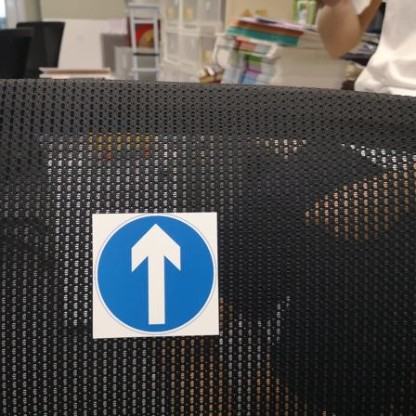forward: (94, 208, 218, 334)
